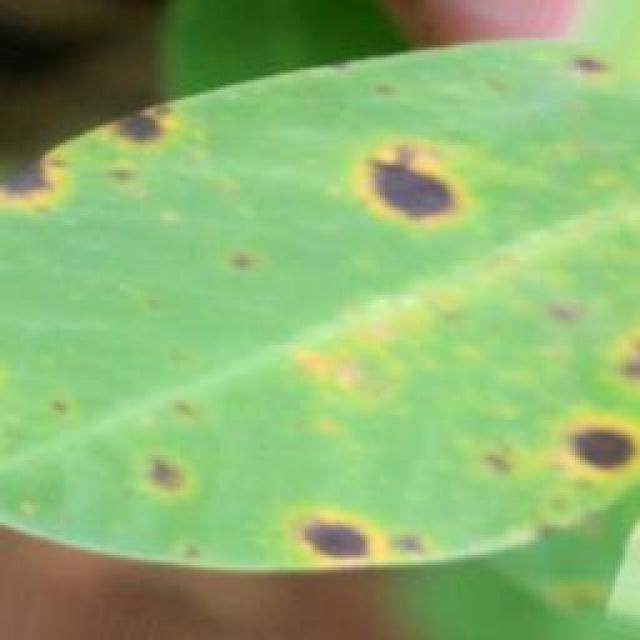Yellowish: (0, 39, 640, 578)
